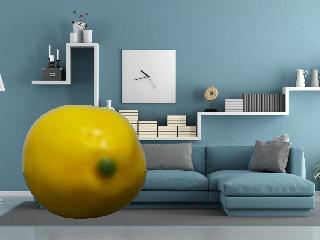lemon: (22, 105, 146, 220)
